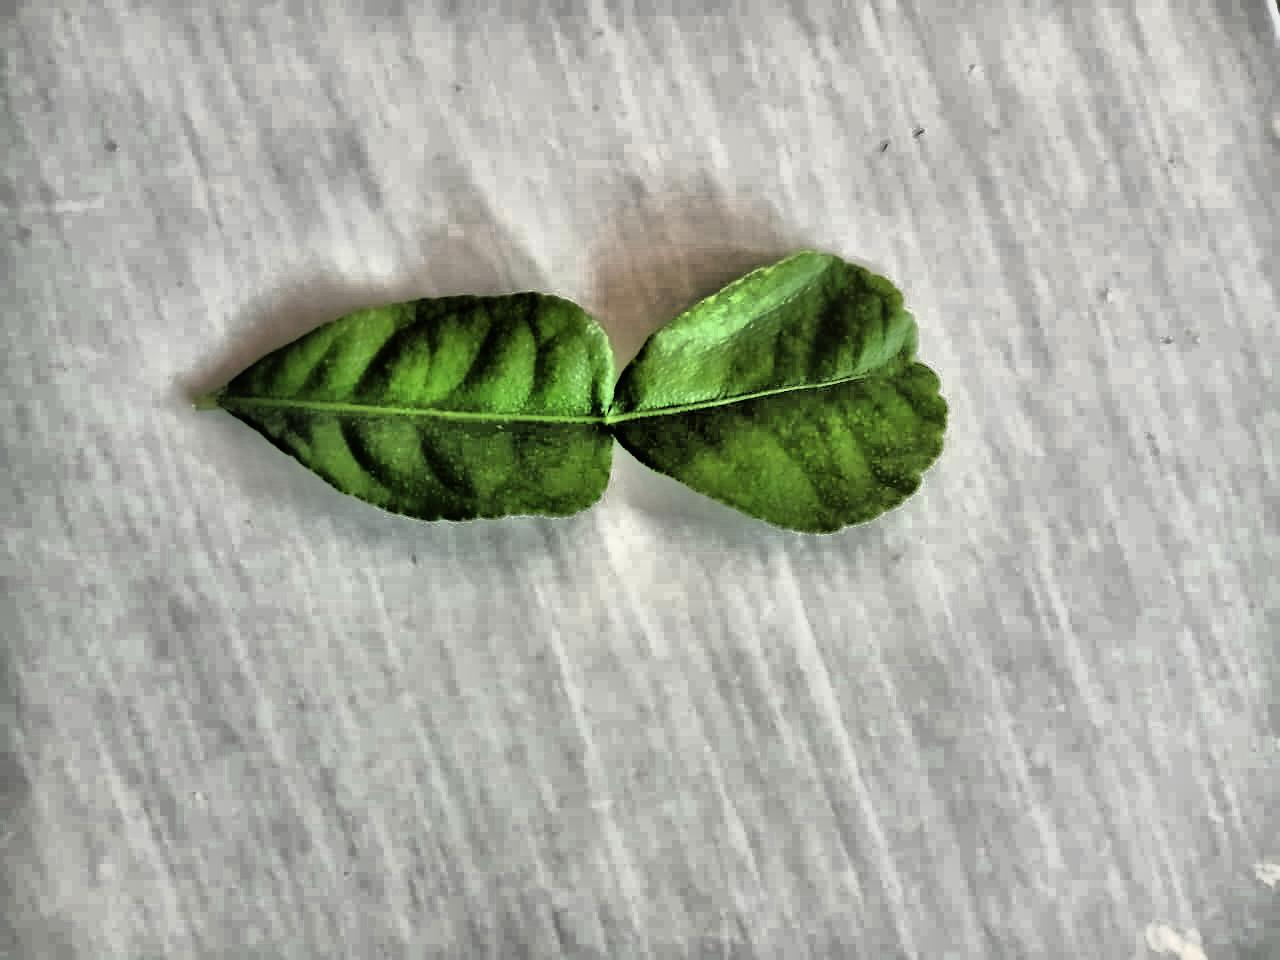daun jeruk: (196, 251, 948, 532)
